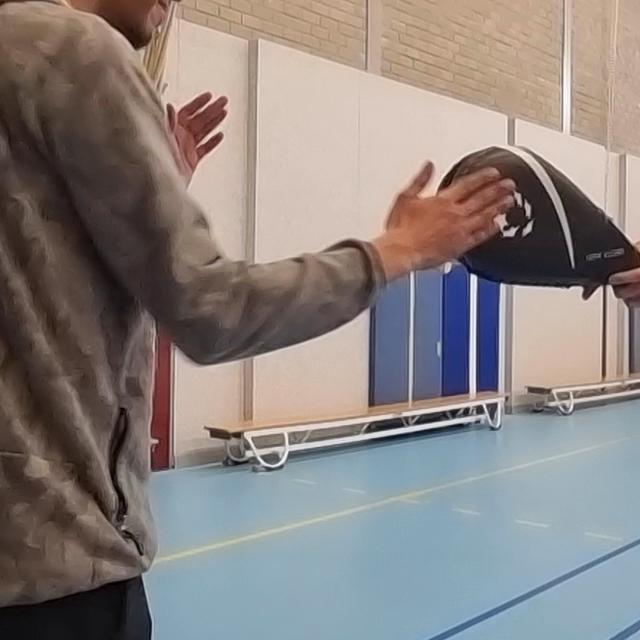paddle: (430, 147, 640, 293)
